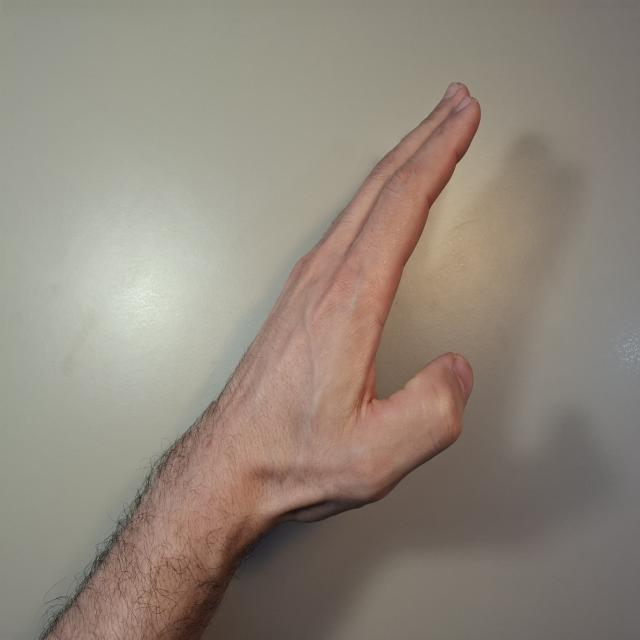glove_off: (213, 78, 484, 534)
